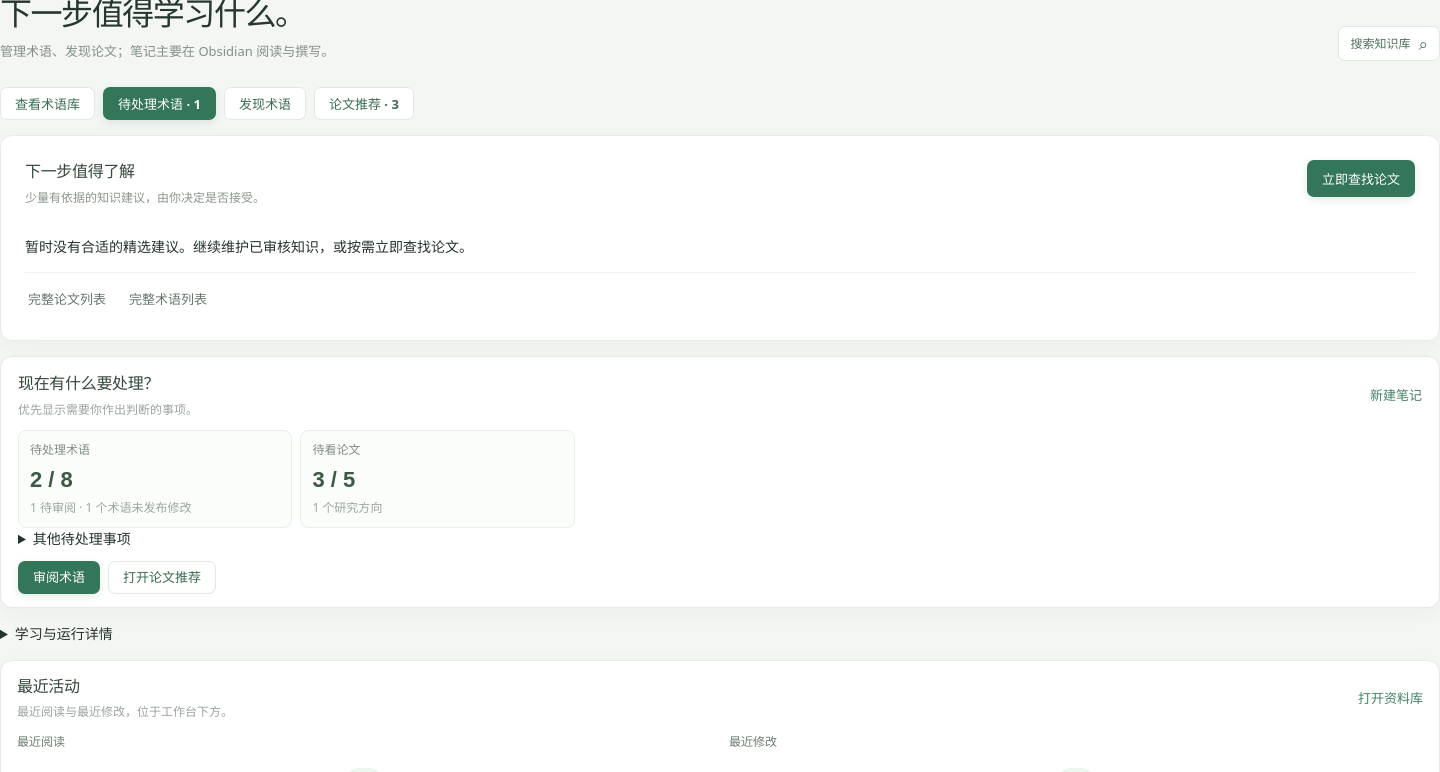
Scenario: Knowledge Dashboard › shows accurate workload, learning context, and agent activity
This screenshot has width=1440, height=772.
Check: the text "2 / 8" is shown, box [30,466,73,492]
Click the heading "其他待处理事项": (82, 539) [33,529,131,548]
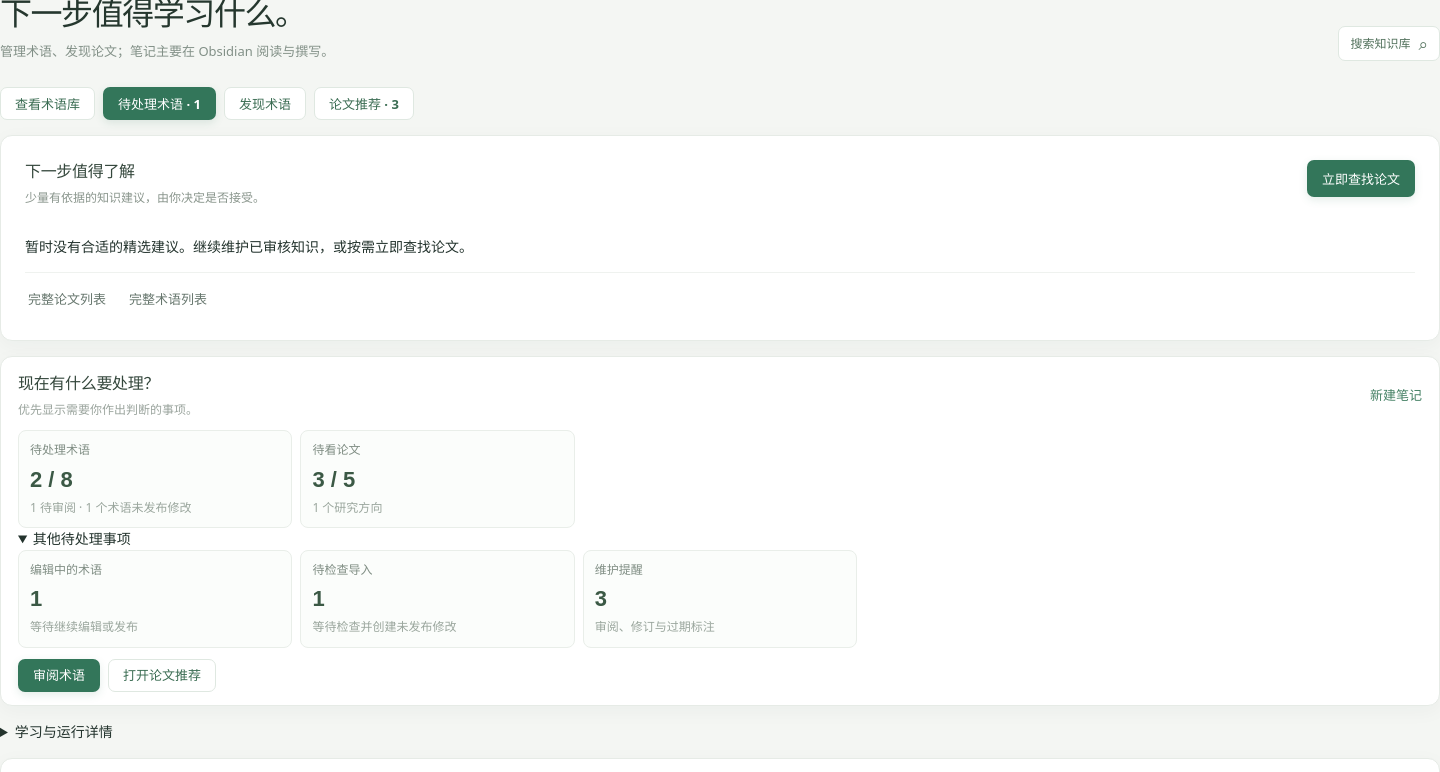
Click the heading "学习与运行详情": (64, 731) [15,722,113,741]
(page scrolled)
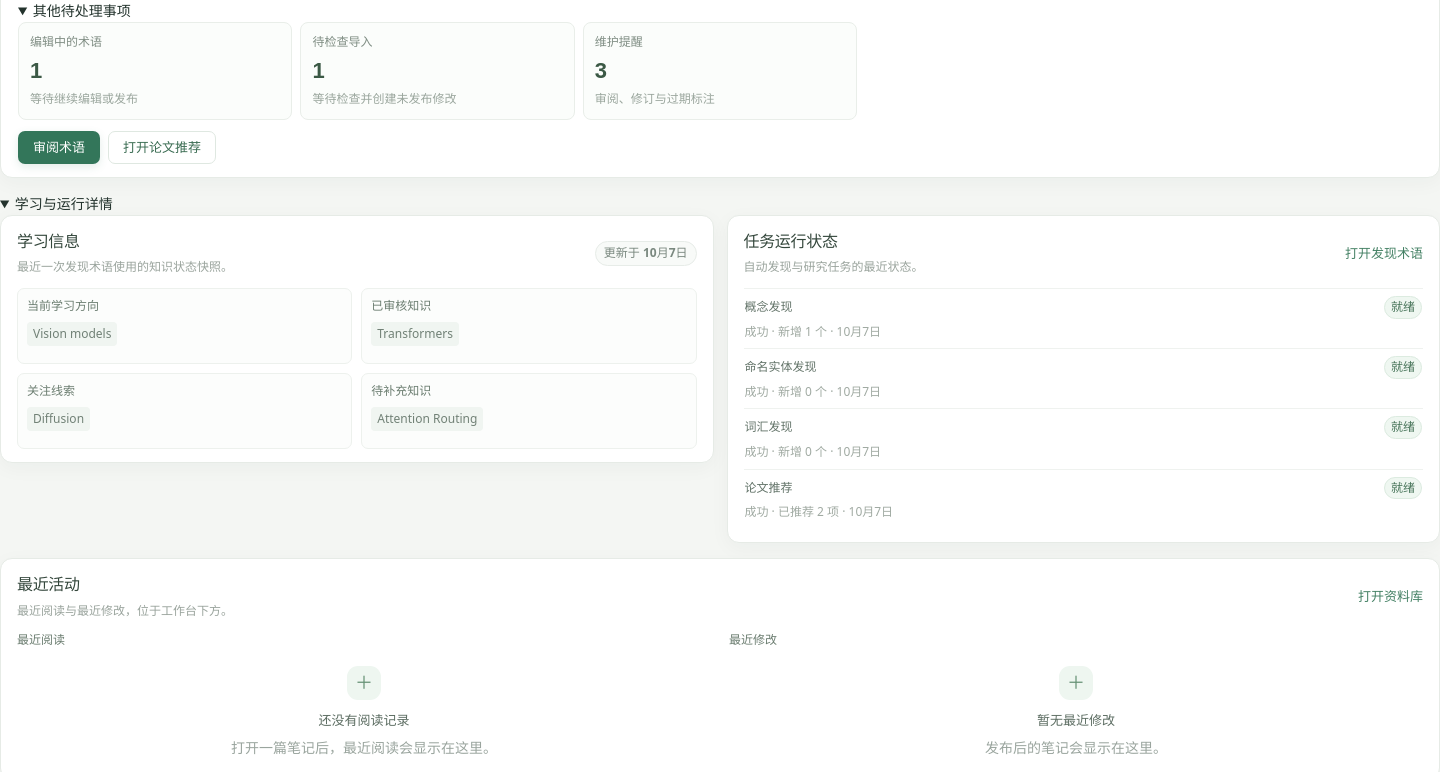
Check: the text "编辑中的术语" is shown, box [30,33,102,50]
Check: the 1st text "1" is shown, box [30,58,42,83]
Check: the list item "Vision models" is shown, box [27,322,117,346]
